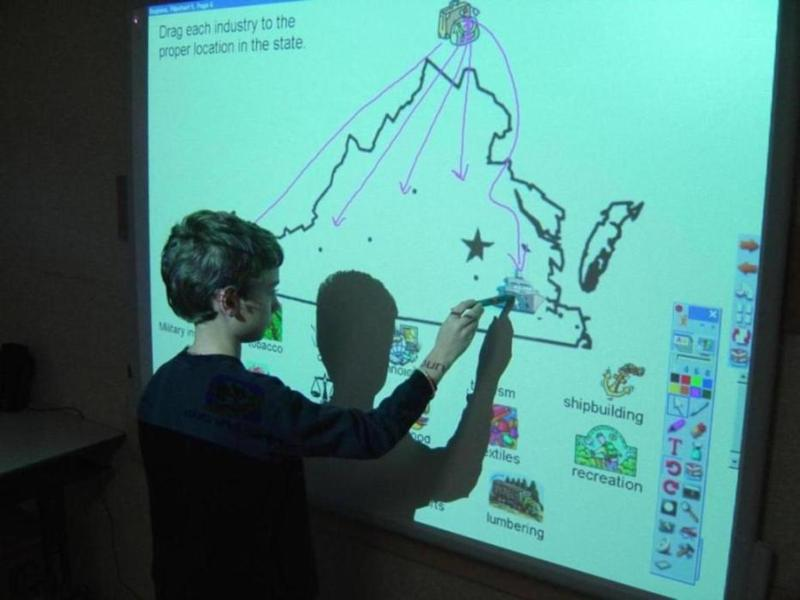person: (131, 208, 479, 596)
